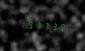nine: (25, 18, 32, 30)
one: (17, 18, 24, 29)
seven: (42, 19, 49, 31), (34, 19, 41, 30)
three: (50, 20, 57, 32)
zero: (58, 21, 65, 32)
